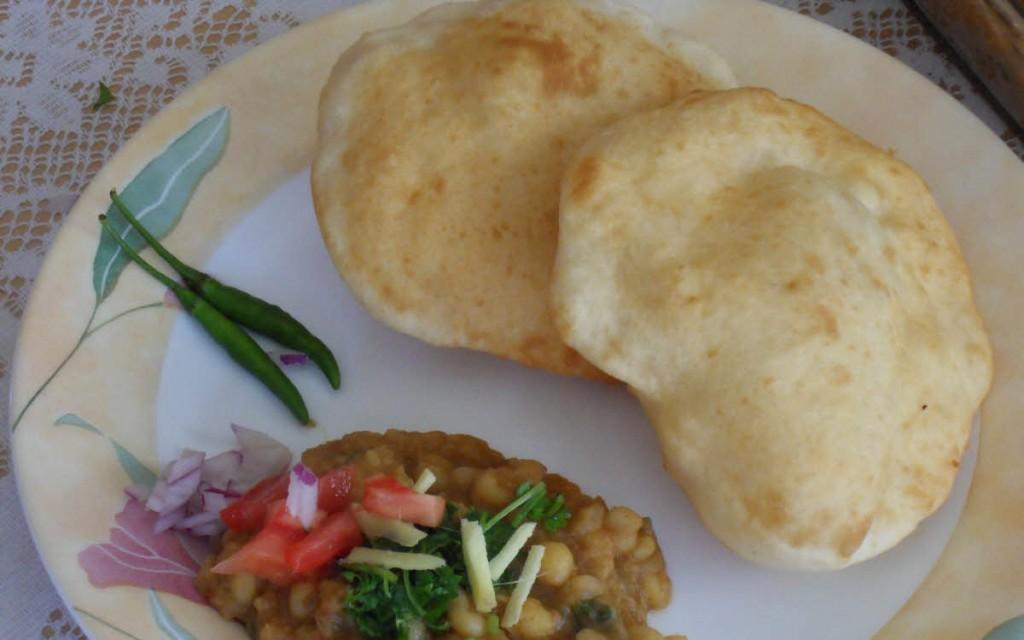Bhatura: (553, 83, 999, 569), (312, 0, 738, 382)
Chole: (200, 429, 681, 640)
